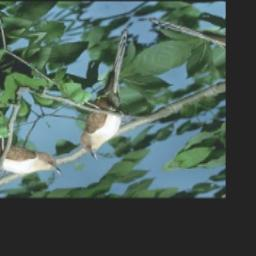Cuckoo: (24, 27, 198, 165)
